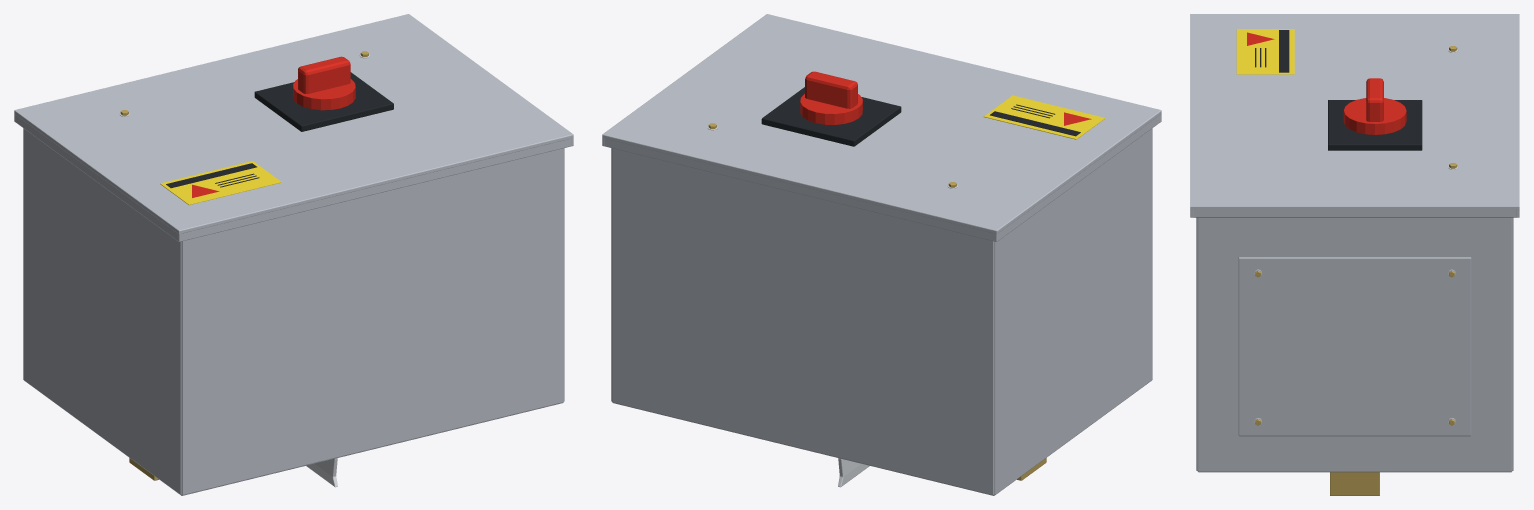
File: tap-off-rotary-top.glb
The picture shows the model from 3 angles, left to right: view 1: azimuth 30°, elevation 25°; view 2: azimuth 150°, elevation 25°; view 3: azimuth 270°, elevation 25°; orthographic projection.
Visible parts, largest first — view 1: Side sheet, Lid sheet, End sheet, Lid long return, Switch escutcheon, Yellow danger label, Red rotary grip, Lid end return, Rotary base; view 2: Side sheet.001, Lid sheet, End sheet, Lid long return.001, Switch escutcheon, Yellow danger label, Red rotary grip, Lid end return, Rotary base; view 3: Lid sheet, Gland plate, End sheet.001, Switch escutcheon, Lid end return.001, Yellow danger label, Rotary base, Earth return.001, Red rotary grip, Rear mounting panel, Side sheet, Side sheet.001 (+1 smaller).
Boxes of the visible parts, box(x1,y1,x2,y2) form: Side sheet: box(181, 148, 564, 495); Lid sheet: box(14, 14, 573, 233); End sheet: box(23, 128, 181, 494); Lid long return: box(177, 138, 571, 241); Switch escutcheon: box(254, 72, 393, 131); Yellow danger label: box(160, 161, 281, 205); Red rotary grip: box(298, 56, 350, 93); Lid end return: box(15, 115, 181, 241); Rotary base: box(293, 79, 355, 110); Side sheet.001: box(611, 148, 994, 495); Lid sheet: box(602, 14, 1161, 233); End sheet: box(994, 128, 1152, 494); Lid long return.001: box(604, 138, 998, 241); Switch escutcheon: box(761, 87, 901, 146); Yellow danger label: box(984, 95, 1105, 139); Red rotary grip: box(805, 71, 857, 108); Lid end return: box(994, 115, 1160, 241); Rotary base: box(800, 94, 862, 124); Lid sheet: box(1190, 14, 1519, 209); Gland plate: box(1238, 257, 1471, 436); End sheet.001: box(1197, 217, 1512, 471); Switch escutcheon: box(1328, 100, 1422, 150); Lid end return.001: box(1193, 209, 1516, 217); Yellow danger label: box(1236, 29, 1294, 74); Rotary base: box(1343, 98, 1406, 134); Earth return.001: box(1330, 472, 1379, 495); Red rotary grip: box(1366, 78, 1383, 121); Rear mounting panel: box(1197, 471, 1512, 472); Side sheet: box(1196, 217, 1197, 470); Side sheet.001: box(1512, 217, 1513, 470).
Bounding box in the file's own units: 0.362 × 0.3285 × 0.262.
